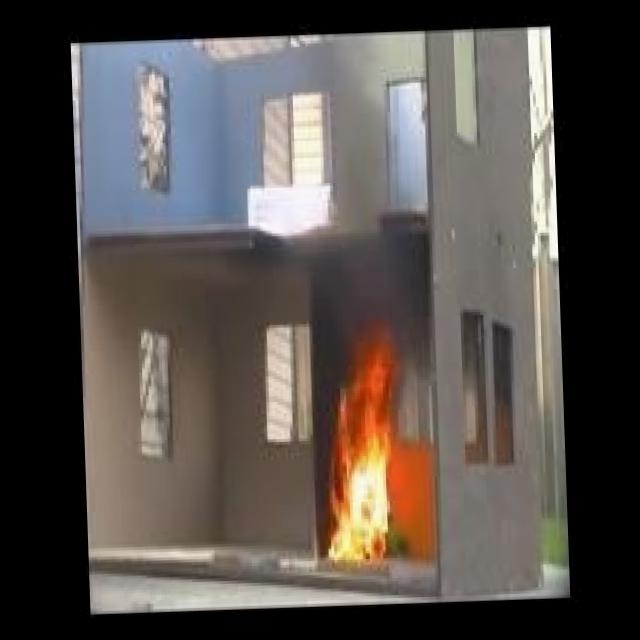fire: (311, 340, 421, 557)
